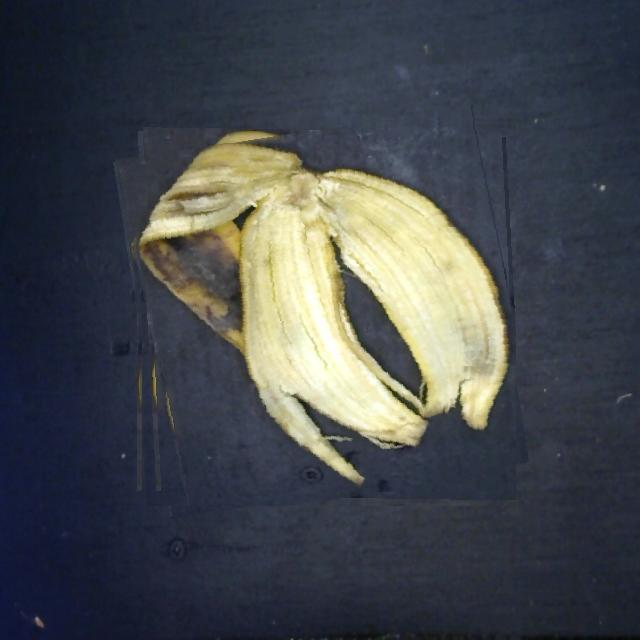biodegradable: (126, 116, 516, 506)
